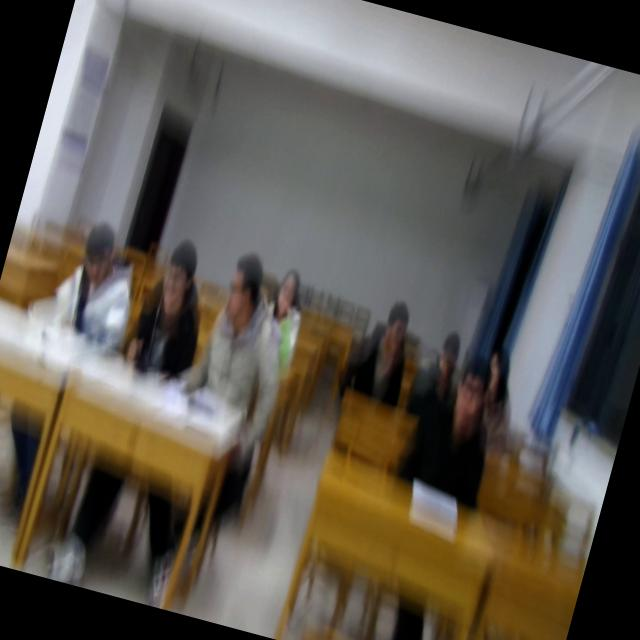down: (68, 214, 124, 290)
lookup: (444, 348, 496, 438), (148, 232, 203, 315), (264, 258, 306, 324), (478, 338, 518, 398), (430, 322, 467, 375)
sit: (166, 237, 314, 423), (391, 344, 513, 508), (32, 214, 150, 358), (115, 230, 222, 388), (334, 290, 423, 408), (250, 261, 318, 376), (402, 320, 472, 424), (466, 343, 531, 449)
